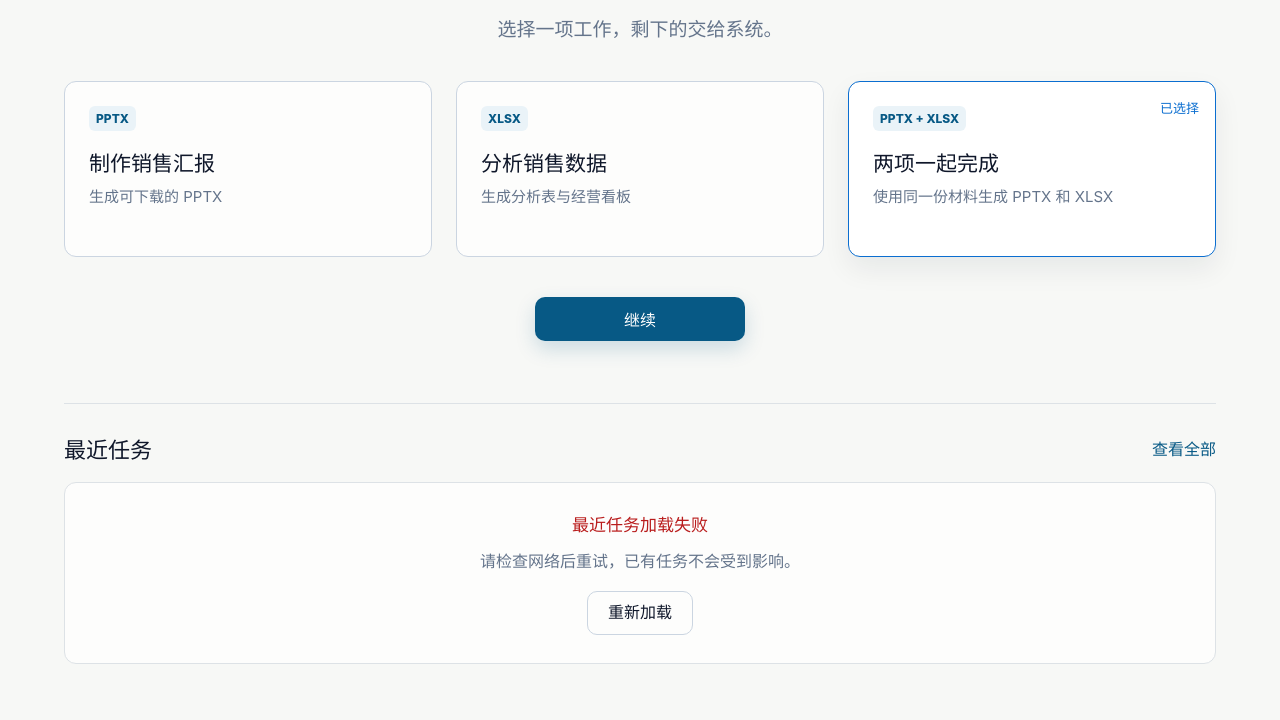
Test: User home › shows a safe failure state and retries the owner-scoped list request
(page scrolled)
Expected: the message with test id "recent-error" shows "最近任务加载失败", [572, 515, 708, 535]
Click the button "重新加载" at [640, 613], box [587, 591, 693, 635]
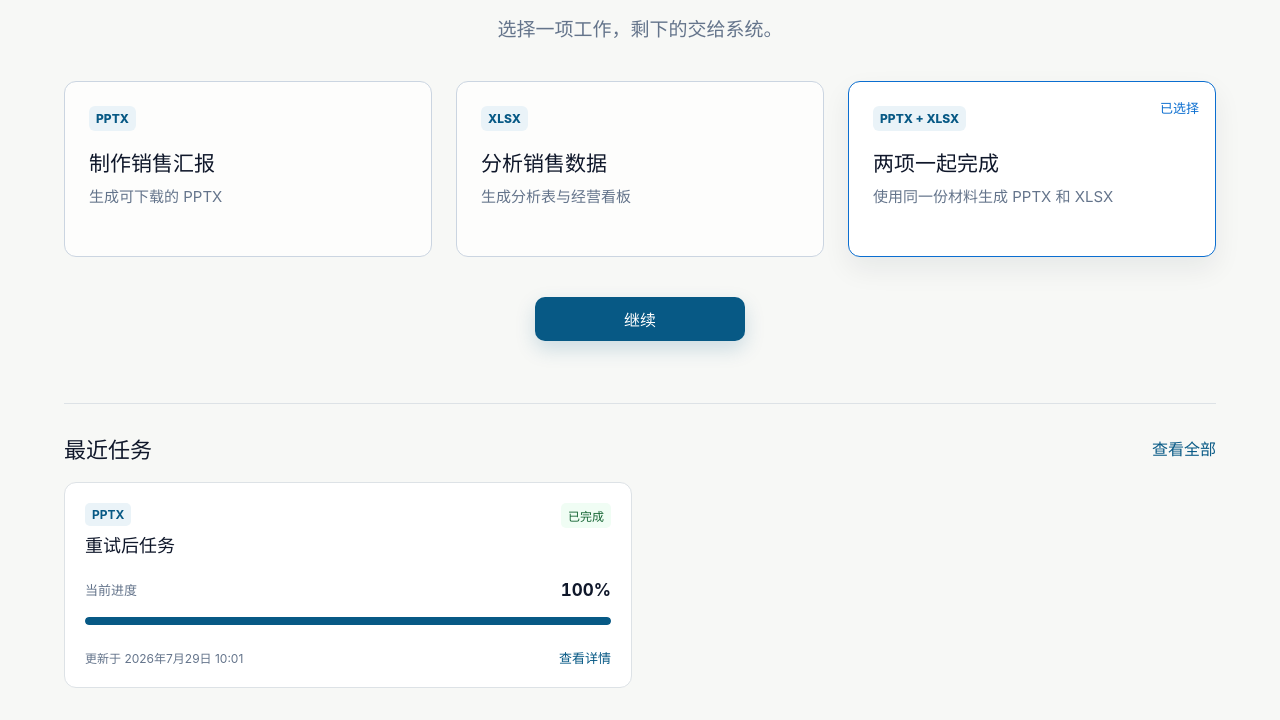
Expected: the text "重试后任务" is shown, [85, 533, 175, 559]
